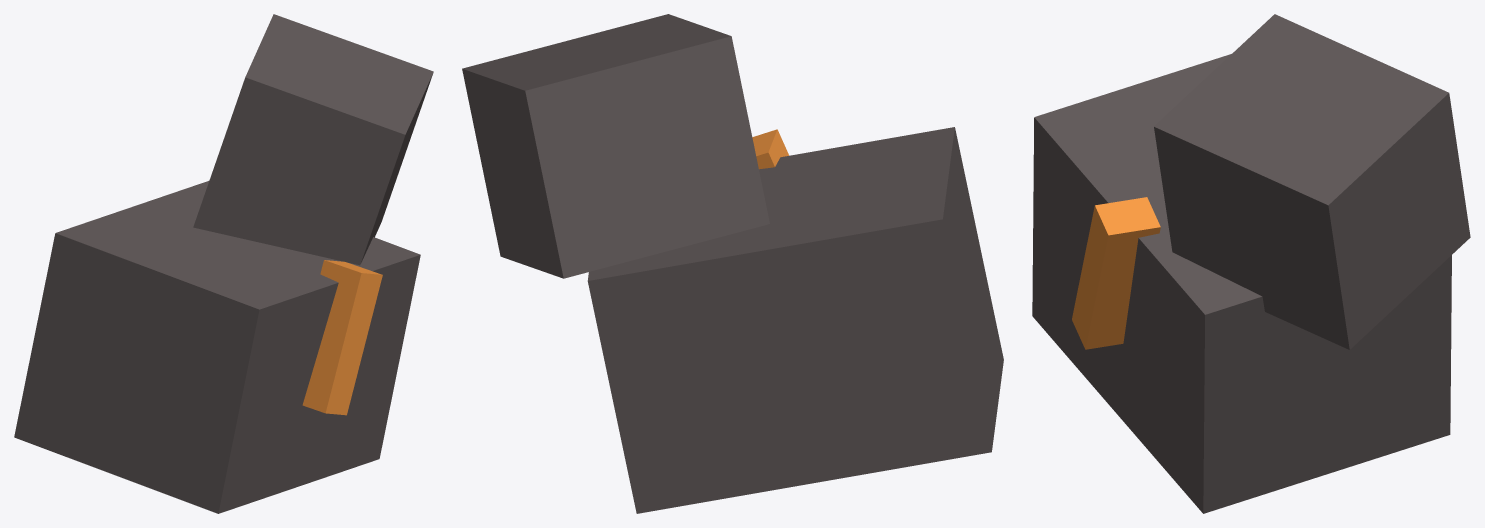
File: minerio_vulcanico.glb
3 renders of one model, left to right at view 1: azimuth 30°, elevation 25°; view 2: azimuth 150°, elevation 25°; view 3: azimuth 270°, elevation 25°, orthographic. The views are drawn at different scales.
Parts seen in each view (by area): view 1: Cube; view 2: Cube; view 3: Cube.
Boxes of the visible parts, bbox=[...] form: Cube: bbox=[14, 14, 433, 513]; Cube: bbox=[462, 14, 1003, 513]; Cube: bbox=[1032, 14, 1470, 513].
Bounding box in the file's own units: 0.4186 × 0.3485 × 0.3132.
